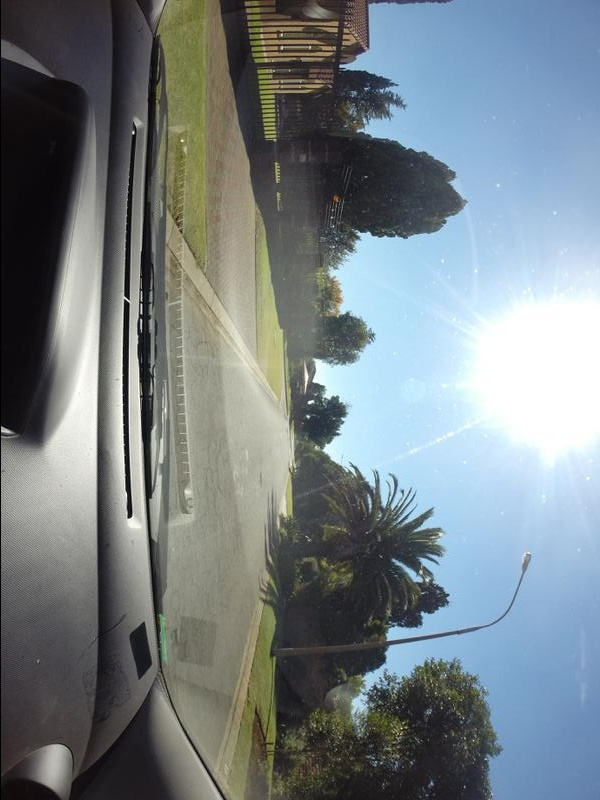pothole: (169, 626, 186, 647)
